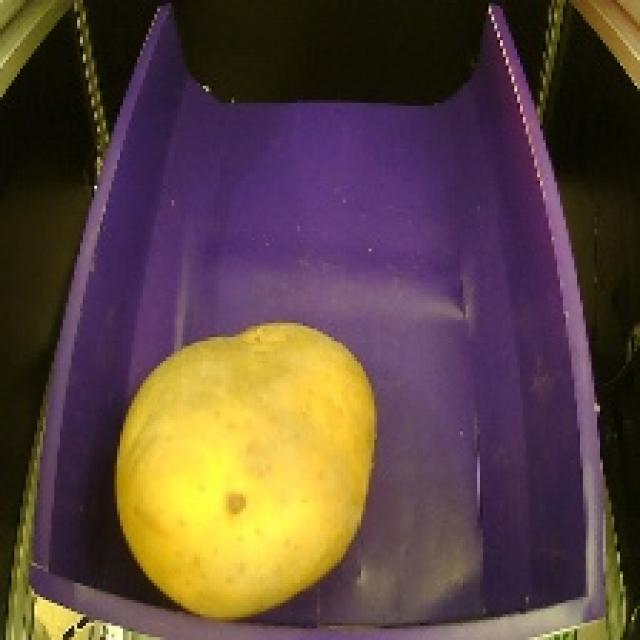full_potato: (98, 308, 393, 632)
